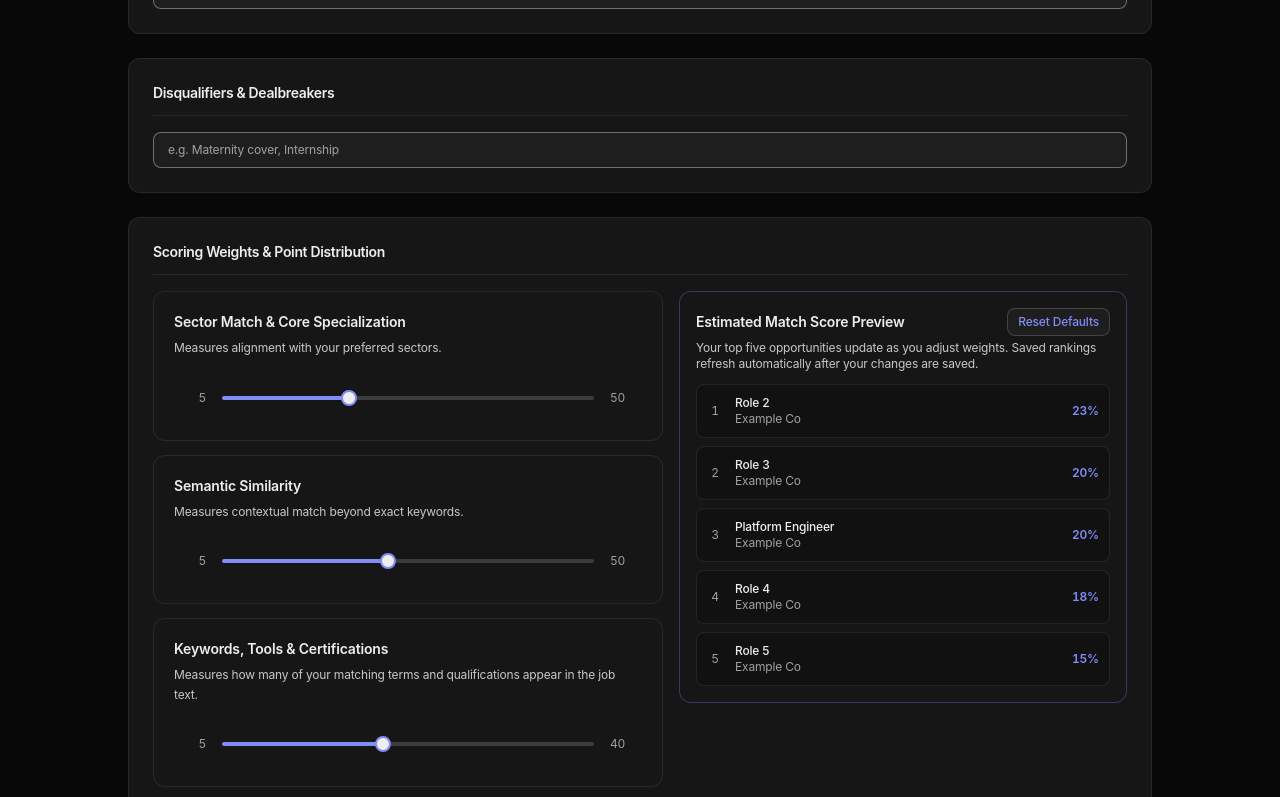
Test: ProfileView › keeps a live preview before the sliders and updates scores as weights change
This screenshot has width=1280, height=797.
(page scrolled)
Check: the list item "Platform Engineer" shows "20%", box [696,508,1110,562]
Check: the text "Role 6" is not shown
Step 1. Set the slider named "Sector Match & Core Specialization" to "15" → [309, 398], box [222,376,594,420]
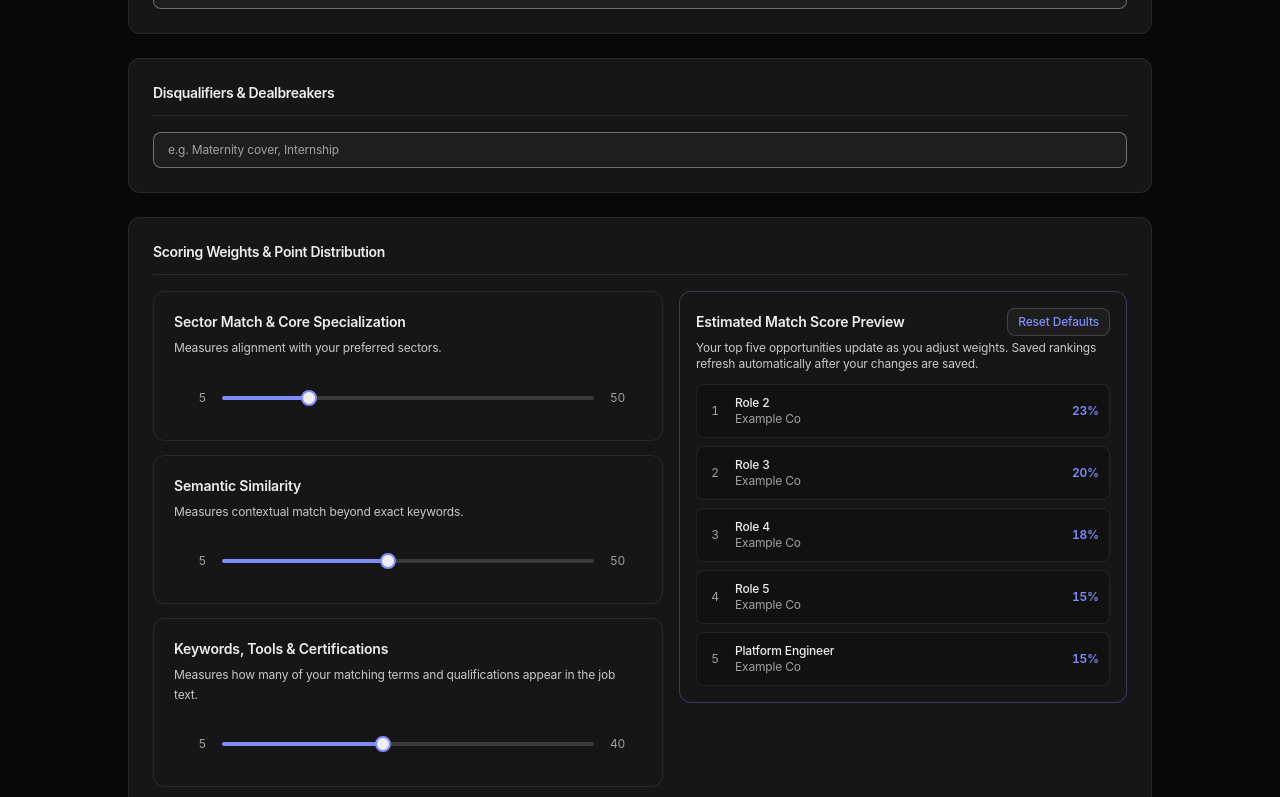
Check: the list item "Platform Engineer" shows "15%", box [696,632,1110,686]
Step 2. Set the slider named "Sector Match & Core Specialization" to "5" → [230, 398], box [222,376,594,420]
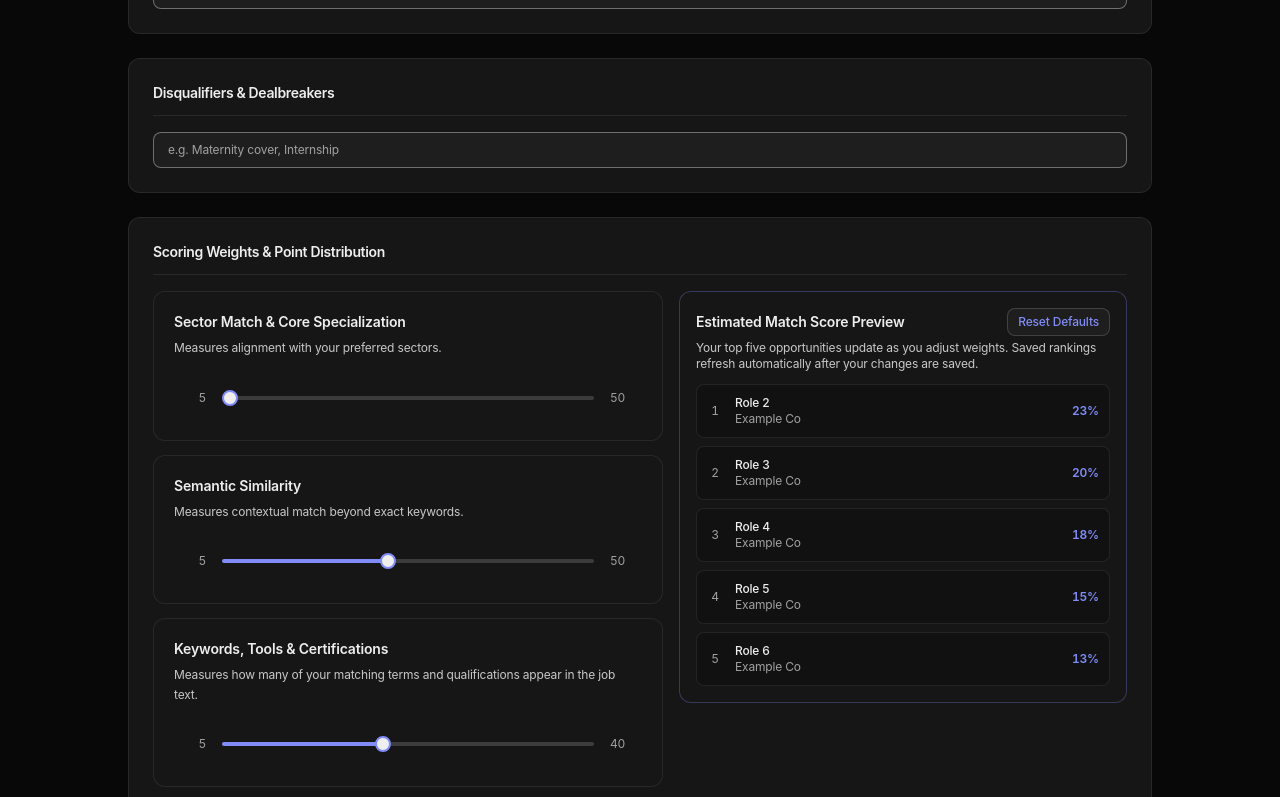
Check: the text "Platform Engineer" is gone
Check: the text "Role 6" is shown, box [735,643,770,658]
